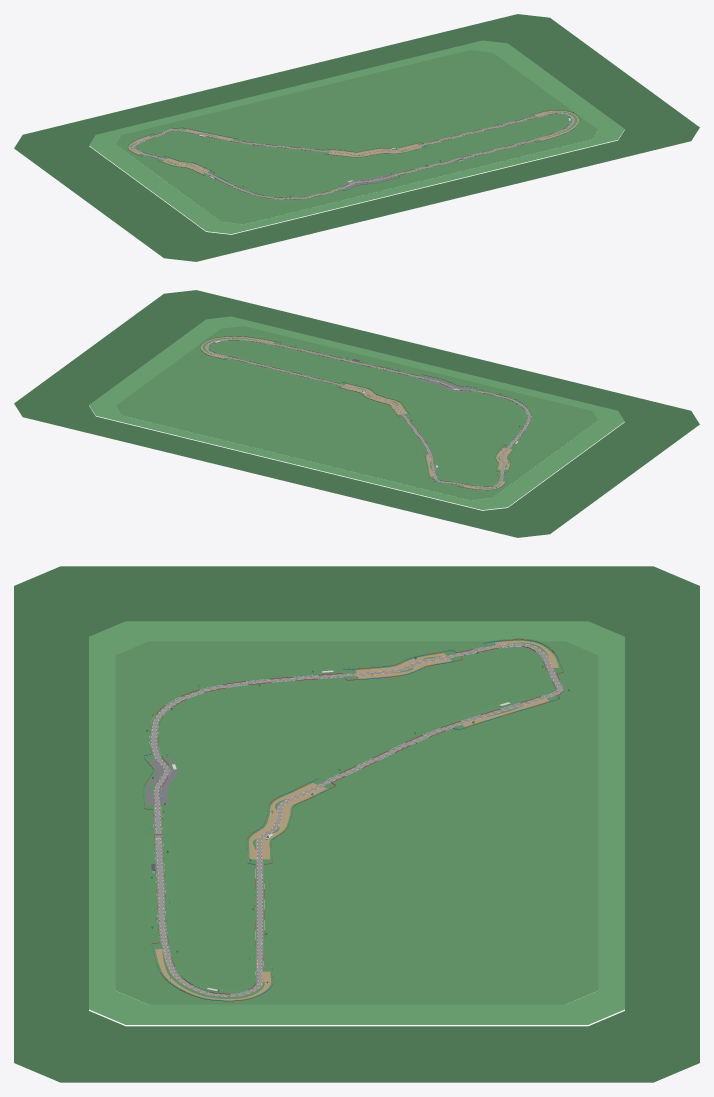
The model's file is monza.glb.
3 renders of one model, top to bottom at view 1: azimuth 30°, elevation 25°; view 2: azimuth 150°, elevation 25°; view 3: azimuth 270°, elevation 25°, orthographic. The views are drawn at different scales.
Parts seen in each view (by area): view 1: terrain_infield, terrain_outskirts, terrain_verge, track_embankment, track_surface, continuous_safety_barriers, gravel_runoff_zones, track_runoff; view 2: terrain_infield, terrain_outskirts, terrain_verge, track_embankment, track_surface, gravel_runoff_zones, track_runoff, continuous_safety_barriers; view 3: terrain_infield, terrain_outskirts, terrain_verge, track_embankment, track_surface, gravel_runoff_zones, track_runoff, continuous_safety_barriers, track_curbs, asphalt_runoff_zones.
Part boxes in pixels (<box>): terrain_infield: <box>116,50,597,224</box>; terrain_outskirts: <box>14,14,699,261</box>; terrain_verge: <box>89,40,624,233</box>; track_embankment: <box>126,110,580,201</box>; track_surface: <box>132,112,574,199</box>; continuous_safety_barriers: <box>128,110,579,199</box>; gravel_runoff_zones: <box>128,110,578,173</box>; track_runoff: <box>131,112,575,199</box>; terrain_infield: <box>116,326,597,500</box>; terrain_outskirts: <box>14,290,699,537</box>; terrain_verge: <box>89,316,624,509</box>; track_embankment: <box>199,336,536,490</box>; track_surface: <box>205,339,530,487</box>; gravel_runoff_zones: <box>201,337,512,489</box>; track_runoff: <box>204,338,530,488</box>; continuous_safety_barriers: <box>199,336,531,490</box>; terrain_infield: <box>115,641,598,1004</box>; terrain_outskirts: <box>14,566,699,1082</box>; terrain_verge: <box>89,621,624,1024</box>; track_embankment: <box>139,638,574,1001</box>; track_surface: <box>152,644,561,996</box>; gravel_runoff_zones: <box>155,641,558,1000</box>; track_runoff: <box>150,643,563,996</box>; continuous_safety_barriers: <box>143,639,563,1001</box>; track_curbs: <box>151,644,562,996</box>; asphalt_runoff_zones: <box>145,758,177,804</box>.
Size of the model in its own units: 3390 by 26.72 by 1902.
